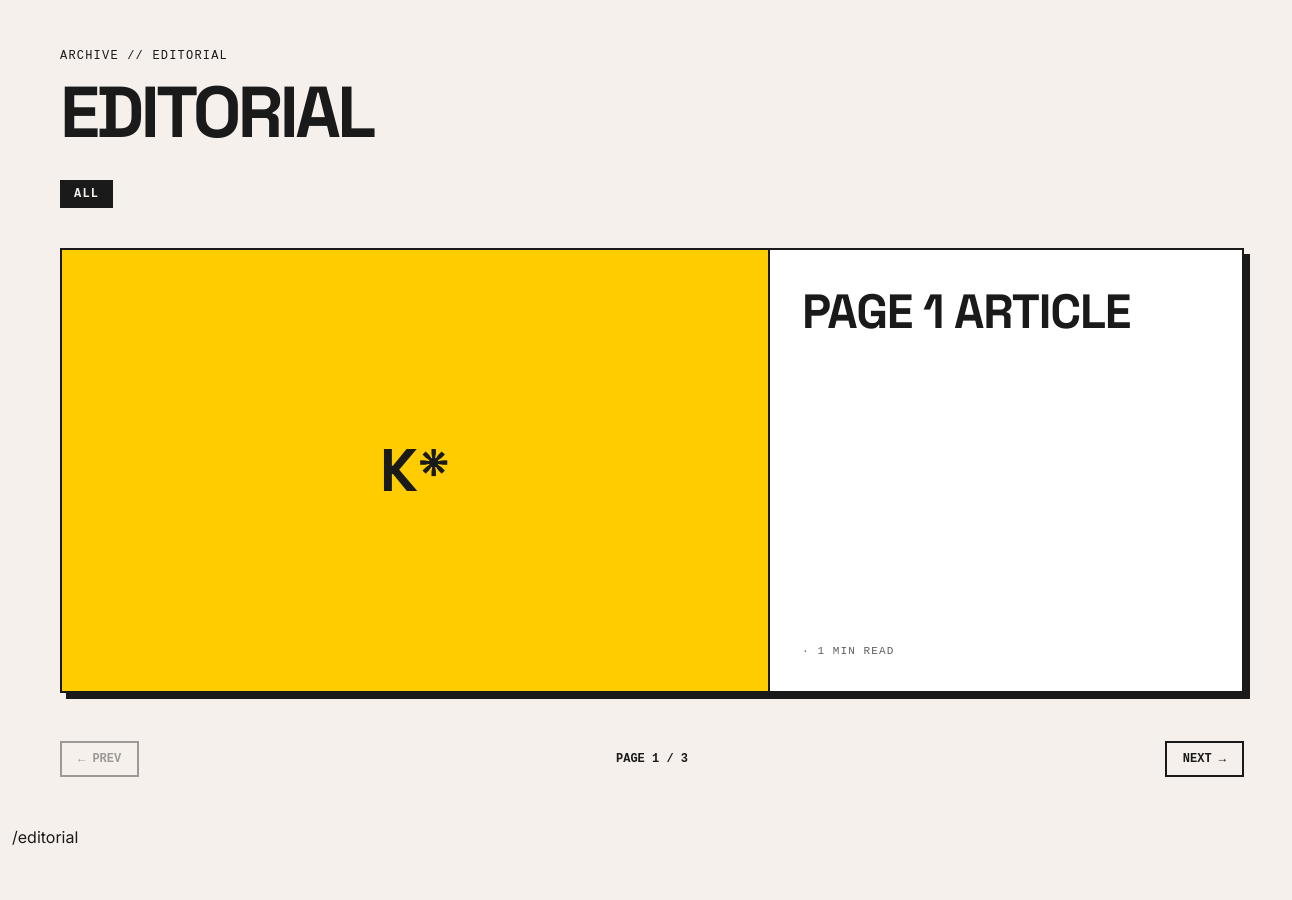
Scenario: EditorialScreen › paginates through the query string
The image size is (1292, 900).
Expected: the heading "PAGE 1 ARTICLE" is shown, [802,281,1130,342]
Expected: the text "PAGE 1 / 3" is shown, [616,751,688,767]
Step 1. Click the button "NEXT →" → (1204, 759), box [1165,741,1244,777]
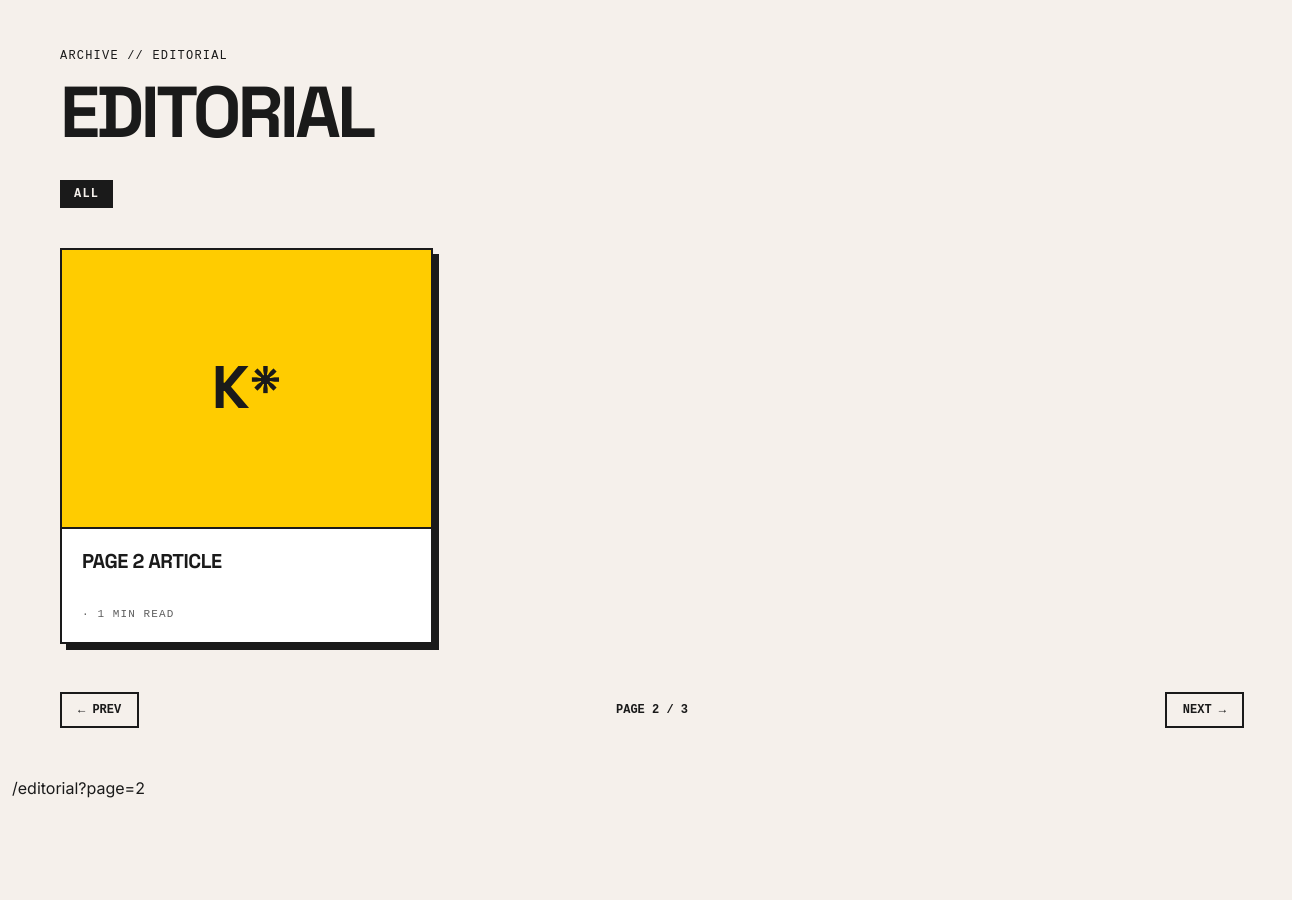
Result: the text with test id "loc" reads "/editorial?page=2" at [12,778,145,798]
Result: the heading "PAGE 2 ARTICLE" is shown at [82,548,222,574]
Result: the button "← PREV" is enabled at [60,692,139,728]
